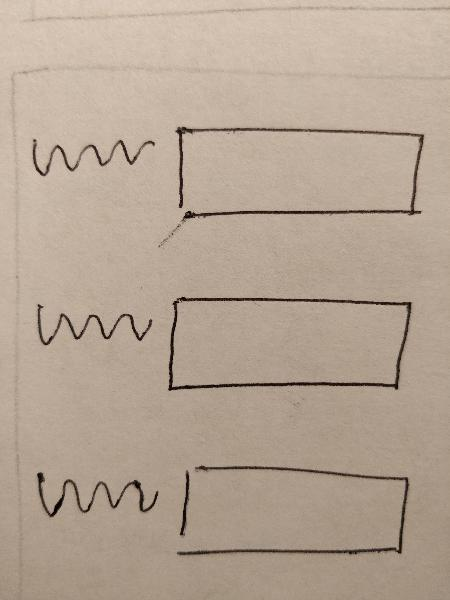text: (30, 462, 161, 532), (30, 293, 155, 365), (24, 126, 157, 181)
text_input: (168, 110, 432, 227), (172, 453, 414, 568), (163, 290, 422, 397)
